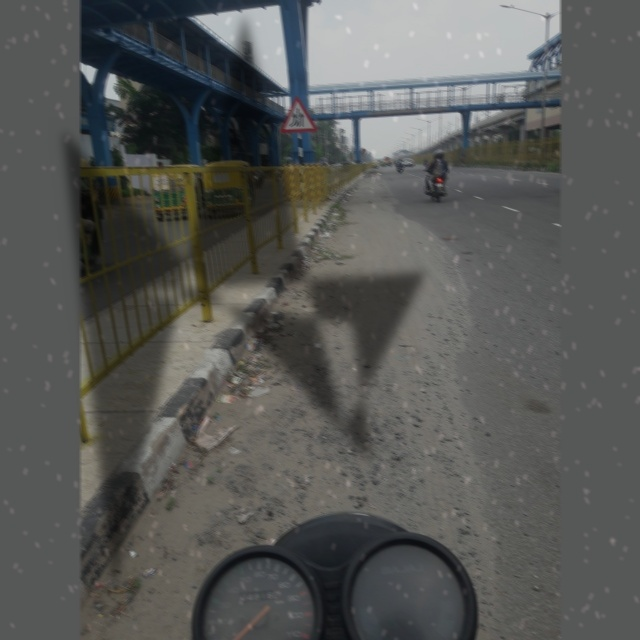Merge_Traffic_Ahead: (276, 87, 320, 136)
